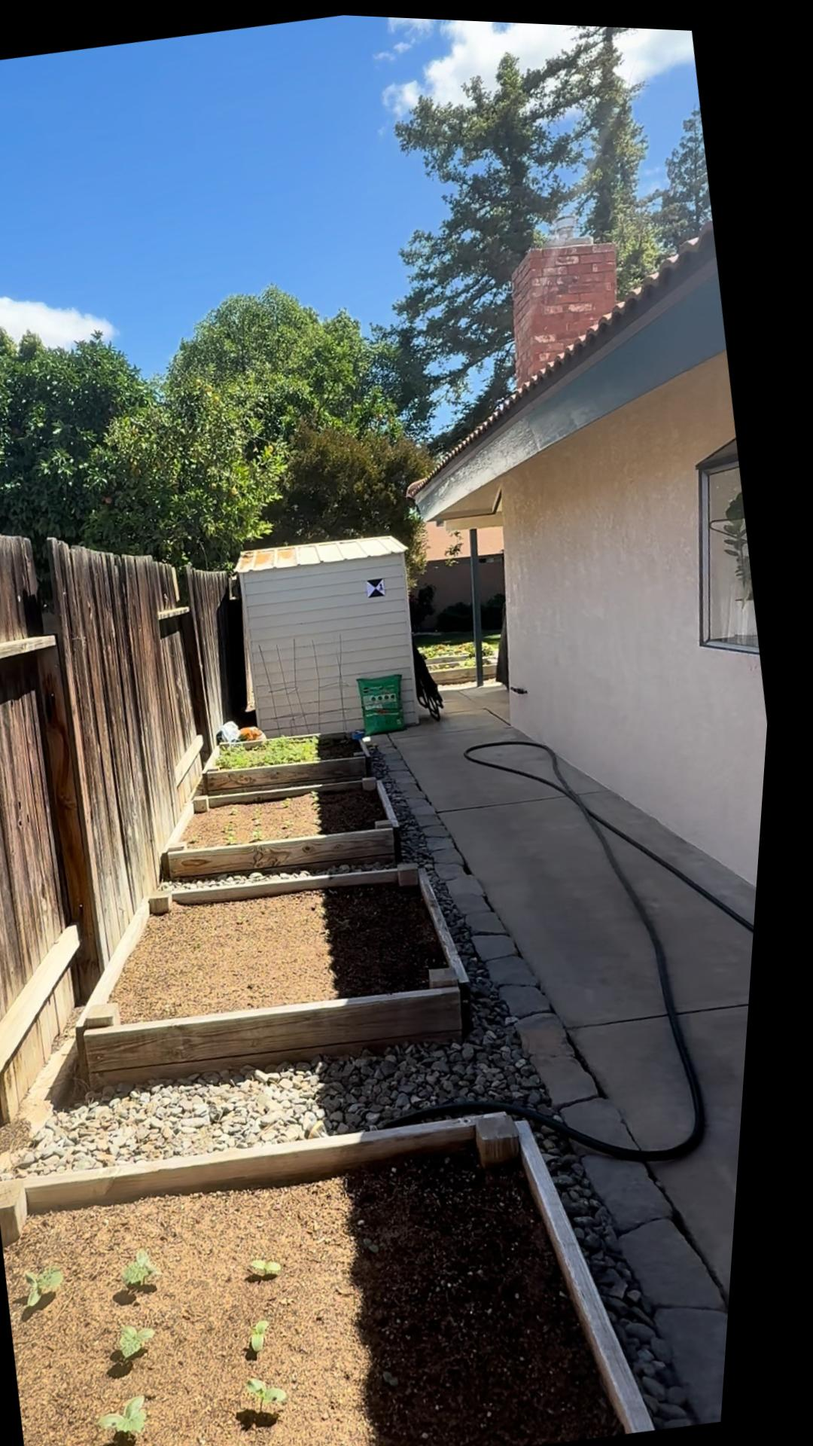target1: (365, 576, 387, 600)
